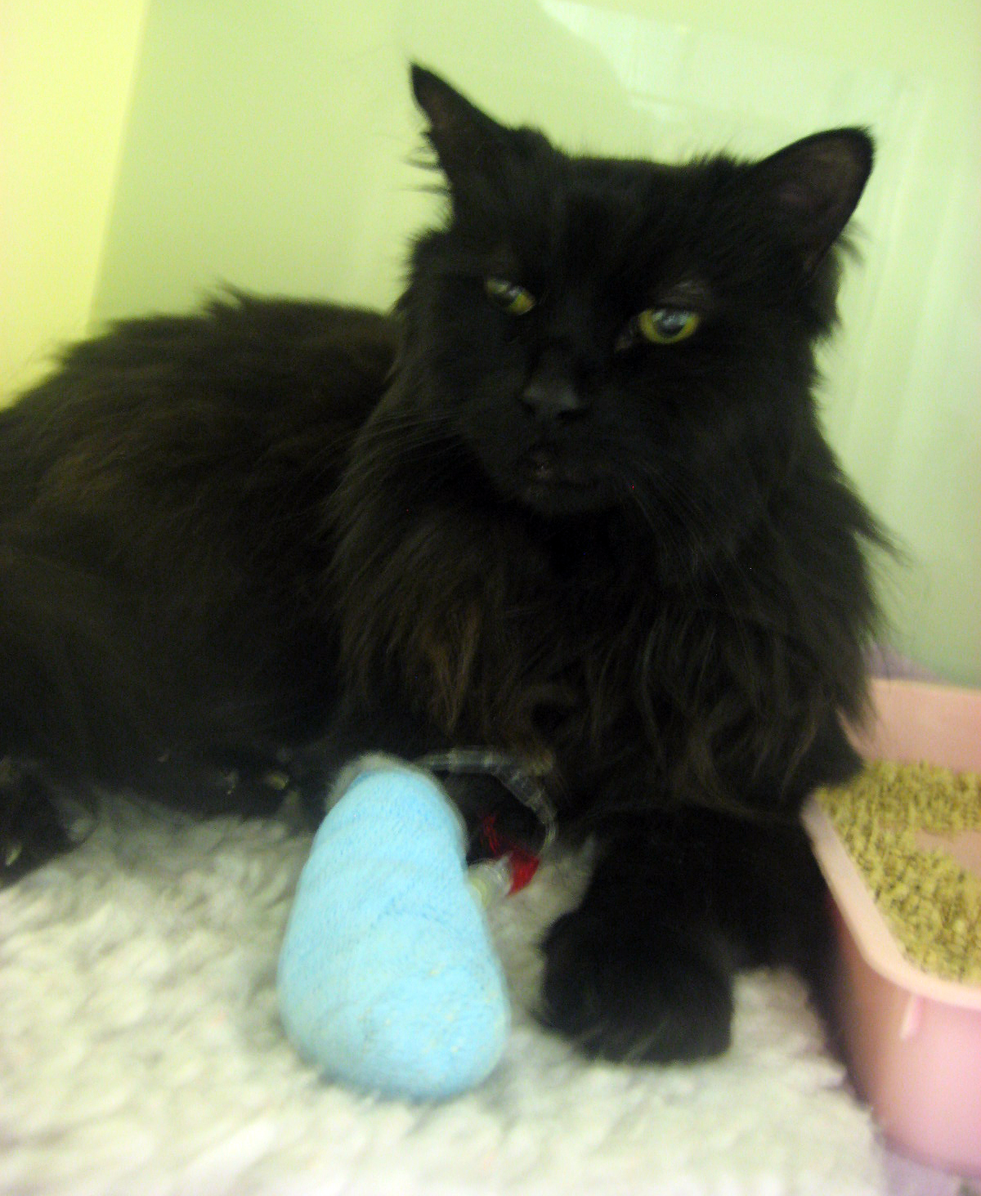cat: (0, 57, 903, 1079)
